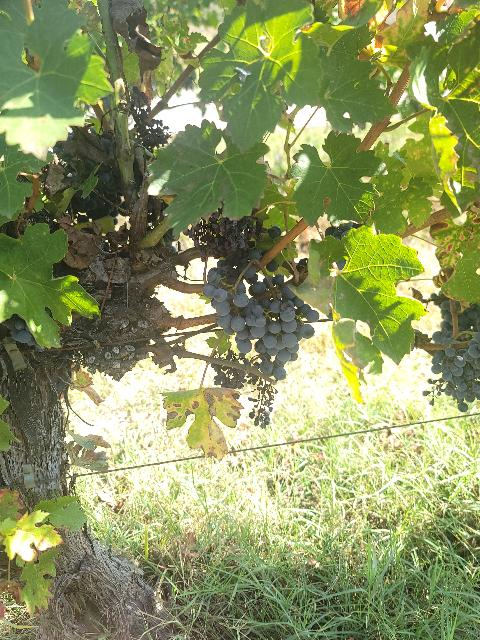grapes: (245, 286, 319, 380), (204, 259, 252, 356)
